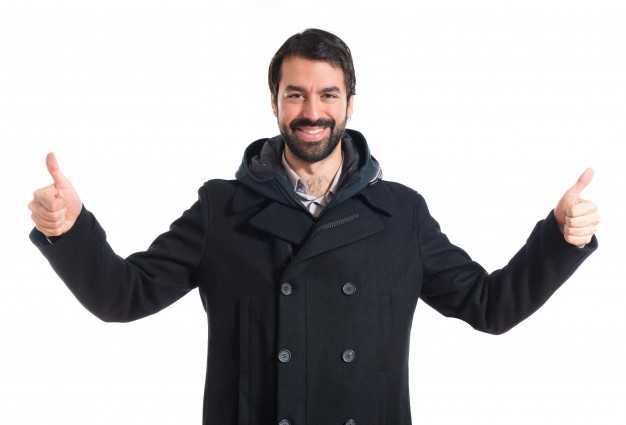thumbsup: (28, 152, 68, 237), (563, 167, 600, 246)
